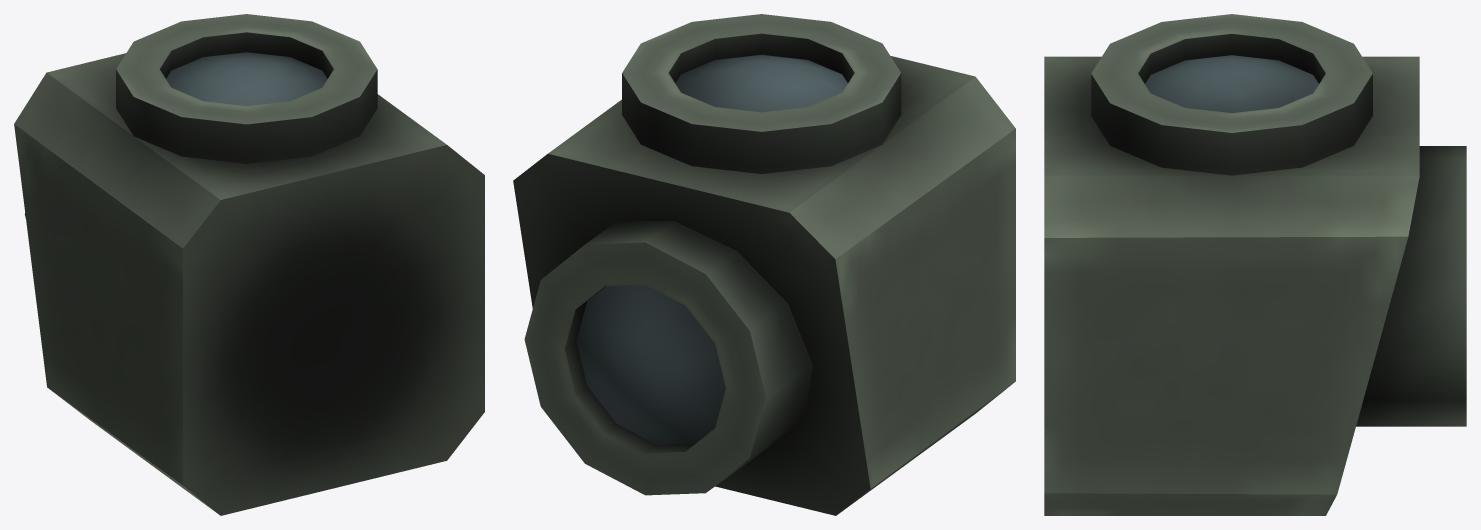
The model's file is octans_periscope_srf_1_head.obj.
The picture shows the model from 3 angles, left to right: view 1: azimuth 30°, elevation 25°; view 2: azimuth 150°, elevation 25°; view 3: azimuth 270°, elevation 25°; orthographic projection. The views are drawn at different scales.
Visible parts, largest first — view 1: mesh; view 2: mesh; view 3: mesh.
Boxes of the visible parts, x1,y1,x2,y2 form: mesh: (14, 14, 484, 515); mesh: (513, 14, 1015, 515); mesh: (1044, 14, 1466, 515).
Size of the model in its own units: 0.1 by 0.1125 by 0.1125.
1 material, 1 textured.
